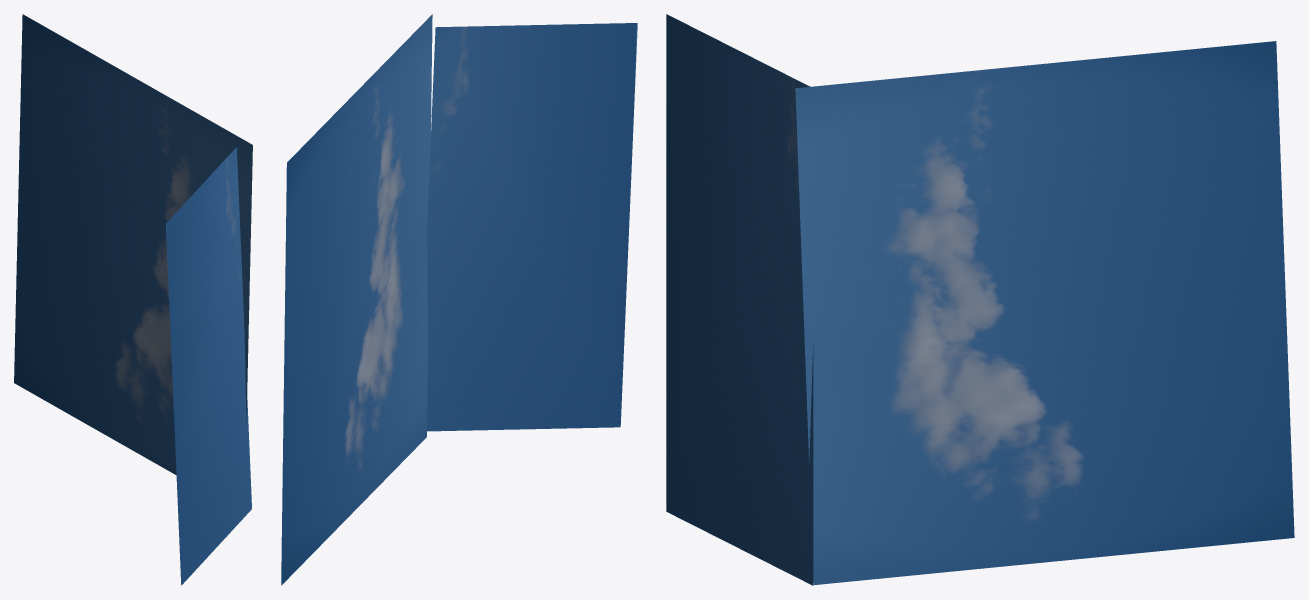
The model's file is asset.glb.
3 views of the same model, side by side, from view 1: azimuth 30°, elevation 25°; view 2: azimuth 150°, elevation 25°; view 3: azimuth 270°, elevation 25° (orthographic). The views are drawn at different scales.
Visible parts, largest first — view 1: Plane, Plane.001; view 2: Plane.001, Plane; view 3: Plane, Plane.001.
Part boxes in pixels (x1,y1,x2,y2): Plane: [14, 14, 252, 475]; Plane.001: [166, 147, 251, 585]; Plane.001: [427, 23, 637, 431]; Plane: [281, 14, 432, 585]; Plane: [795, 41, 1294, 584]; Plane.001: [666, 14, 813, 585].
Bounding box in the file's own units: 1.79 × 4.68 × 5.16.
2 materials, 2 textured.
